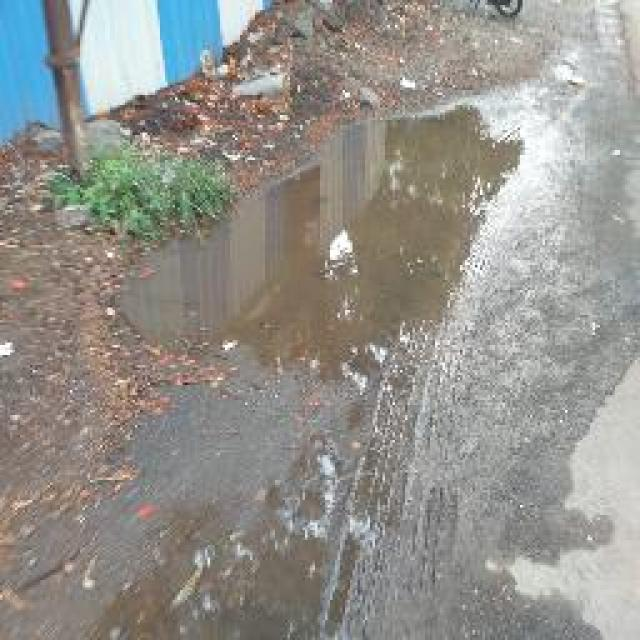puddle: (119, 109, 527, 375)
